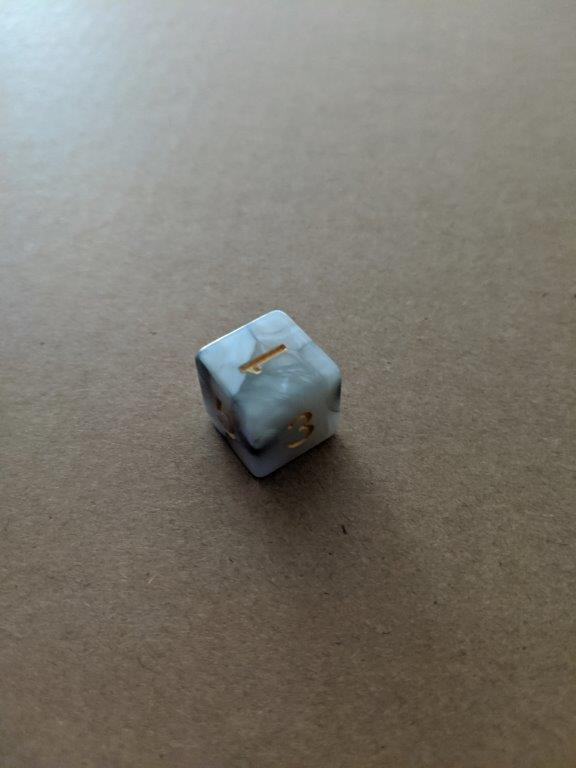d6-1: (196, 308, 344, 478)
